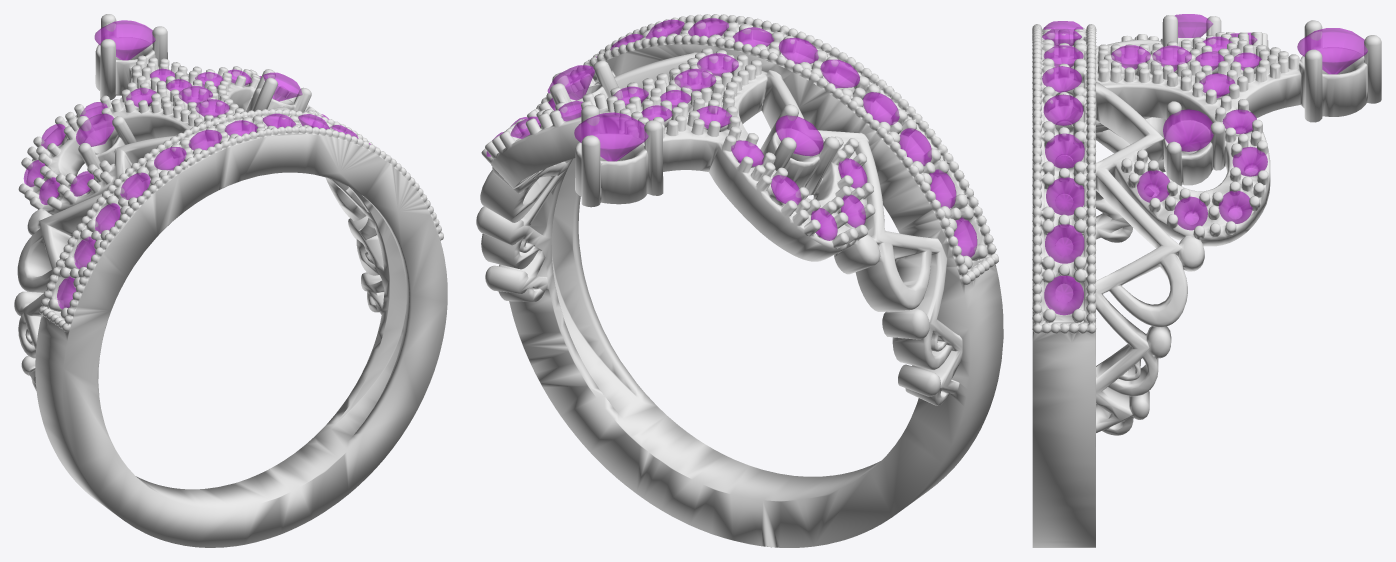
The model's file is Crown-ring.glb.
The picture shows the model from 3 angles, left to right: view 1: azimuth 30°, elevation 25°; view 2: azimuth 150°, elevation 25°; view 3: azimuth 270°, elevation 25°; orthographic projection. The views are drawn at different scales.
Visible parts, largest first — view 1: Anillo 15 carlos.003, cruz.152, cruz.184, cruz.183, cruz.151, cruz.175, cruz.143, cruz.194, cruz.162, cruz.193, cruz.161, cruz.195; view 2: Anillo 15 carlos.003, cruz.184, cruz.152, cruz.183, cruz.151, cruz.175, cruz.143, cruz.193, cruz.195, cruz.161, cruz.194, cruz.162 (+13 smaller); view 3: Anillo 15 carlos.003, cruz.184, cruz.152, cruz.175, cruz.143, cruz.191, cruz.159, cruz.190, cruz.158, cruz.189, cruz.157, cruz.188 (+27 smaller).
Boxes of the visible parts, x1=… form: Anillo 15 carlos.003: x1=14, y1=14, x2=447, y2=547; cruz.152: x1=95, y1=20, x2=155, y2=59; cruz.184: x1=95, y1=20, x2=155, y2=59; cruz.183: x1=76, y1=114, x2=113, y2=146; cruz.151: x1=76, y1=114, x2=113, y2=146; cruz.175: x1=263, y1=73, x2=301, y2=101; cruz.143: x1=263, y1=73, x2=301, y2=101; cruz.194: x1=120, y1=173, x2=149, y2=199; cruz.162: x1=120, y1=173, x2=149, y2=199; cruz.193: x1=154, y1=147, x2=186, y2=169; cruz.161: x1=154, y1=147, x2=186, y2=169; cruz.195: x1=95, y1=203, x2=120, y2=233; Anillo 15 carlos.003: x1=476, y1=14, x2=1003, y2=547; cruz.184: x1=574, y1=112, x2=648, y2=160; cruz.152: x1=574, y1=112, x2=647, y2=160; cruz.183: x1=776, y1=115, x2=823, y2=155; cruz.151: x1=776, y1=115, x2=823, y2=155; cruz.175: x1=548, y1=65, x2=594, y2=100; cruz.143: x1=548, y1=65, x2=594, y2=100; cruz.193: x1=820, y1=60, x2=859, y2=87; cruz.195: x1=899, y1=128, x2=931, y2=165; cruz.161: x1=820, y1=60, x2=859, y2=87; cruz.194: x1=863, y1=92, x2=899, y2=124; cruz.162: x1=863, y1=92, x2=899, y2=124; Anillo 15 carlos.003: x1=1032, y1=15, x2=1381, y2=547; cruz.184: x1=1297, y1=28, x2=1367, y2=73; cruz.152: x1=1297, y1=28, x2=1367, y2=73; cruz.175: x1=1163, y1=109, x2=1213, y2=151; cruz.143: x1=1163, y1=109, x2=1213, y2=151; cruz.191: x1=1044, y1=276, x2=1083, y2=314; cruz.159: x1=1044, y1=276, x2=1083, y2=314; cruz.190: x1=1045, y1=224, x2=1083, y2=263; cruz.158: x1=1045, y1=224, x2=1083, y2=263; cruz.189: x1=1046, y1=177, x2=1083, y2=215; cruz.157: x1=1046, y1=177, x2=1083, y2=215; cruz.188: x1=1045, y1=134, x2=1084, y2=168.
Size of the model in its own units: 1.68 by 1.76 by 1.14.
